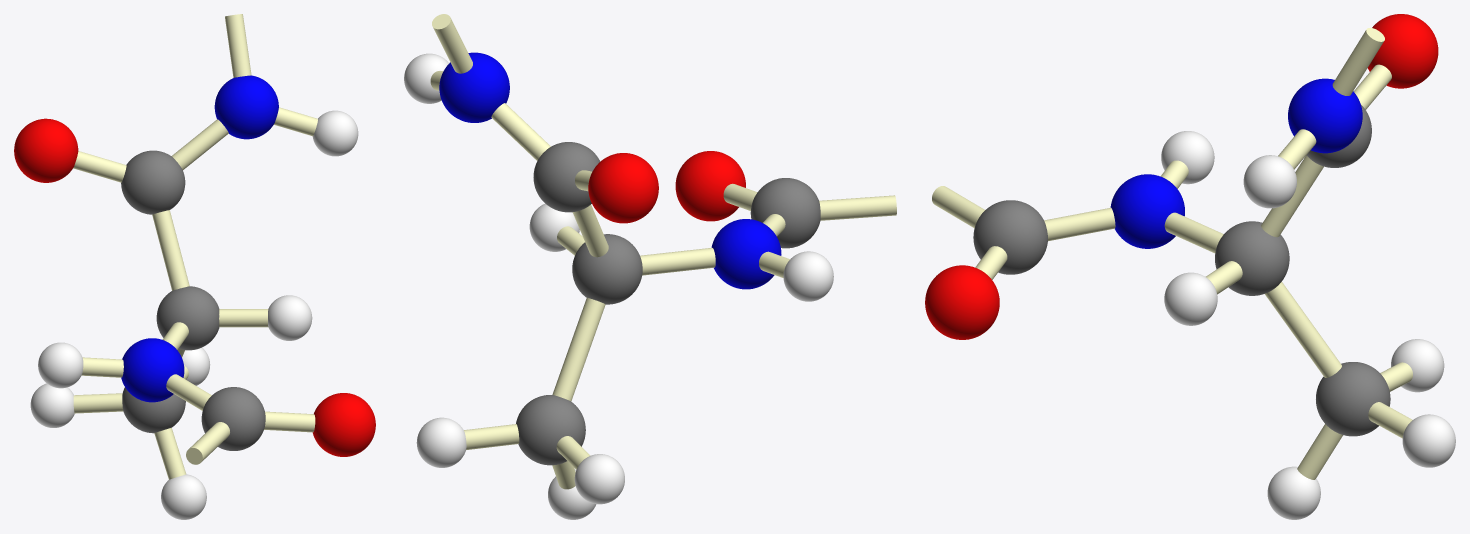
The model's file is conformation.gltf.
The picture shows the model from 3 angles, left to right: view 1: azimuth 30°, elevation 25°; view 2: azimuth 150°, elevation 25°; view 3: azimuth 270°, elevation 25°; orthographic projection. The views are drawn at different scales.
Visible parts, largest first — view 1: ?????????6, ?????????13, ?????????5, ?????????2, ?????????3, ?????????1, ?????????4, ?????????9, ?????????7, ?????????10, ?????????8, ?????????14 (+15 smaller); view 2: ?????????6, ?????????2, ?????????13, ?????????4, ?????????3, ?????????9, ?????????5, ?????????1, ?????????22, ?????????7, ?????????12, ?????????11 (+11 smaller); view 3: ?????????2, ?????????3, ?????????1, ?????????9, ?????????13, ?????????4, ?????????6, ?????????22, ?????????11, ?????????14, ?????????8, ?????????10 (+15 smaller).
Boxes of the visible parts, x1,y1,x2,y2 form: ?????????6: [14, 118, 78, 182]; ?????????13: [214, 75, 278, 139]; ?????????5: [121, 150, 185, 214]; ?????????2: [312, 393, 375, 456]; ?????????3: [121, 338, 184, 402]; ?????????1: [201, 387, 265, 450]; ?????????4: [156, 286, 219, 350]; ?????????9: [122, 387, 185, 433]; ?????????7: [38, 342, 83, 388]; ?????????10: [161, 474, 206, 519]; ?????????8: [268, 295, 312, 340]; ?????????14: [312, 110, 358, 156]; ?????????6: [588, 153, 658, 223]; ?????????2: [675, 151, 745, 221]; ?????????13: [439, 52, 509, 122]; ?????????4: [572, 234, 642, 304]; ?????????3: [711, 219, 781, 289]; ?????????9: [516, 395, 585, 465]; ?????????5: [533, 142, 600, 212]; ?????????1: [750, 178, 820, 248]; ?????????22: [552, 297, 605, 401]; ?????????7: [783, 251, 833, 301]; ?????????12: [574, 454, 624, 504]; ?????????11: [416, 417, 466, 467]; ?????????2: [925, 265, 999, 339]; ?????????3: [1110, 174, 1184, 248]; ?????????1: [973, 200, 1047, 274]; ?????????9: [1316, 362, 1390, 436]; ?????????13: [1288, 78, 1362, 153]; ?????????4: [1215, 221, 1289, 295]; ?????????6: [1368, 14, 1438, 88]; ?????????22: [1265, 282, 1341, 377]; ?????????11: [1402, 414, 1455, 467]; ?????????14: [1243, 155, 1296, 208]; ?????????8: [1164, 272, 1217, 325]; ?????????10: [1267, 466, 1320, 519].
Size of the model in its own units: 43.97 by 55.32 by 49.71.
